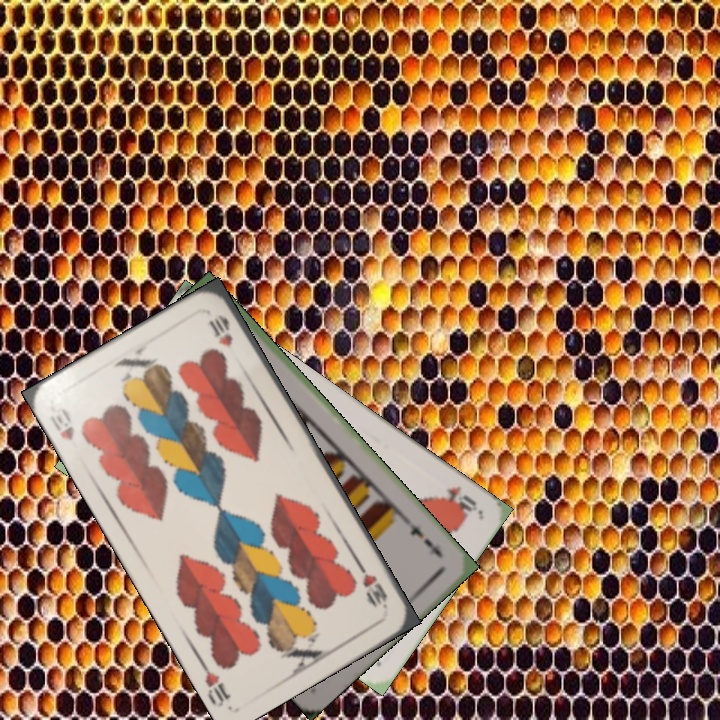E7: (404, 516, 446, 560)
H10: (354, 559, 390, 612), (46, 402, 77, 443)
HO: (438, 482, 481, 518)
